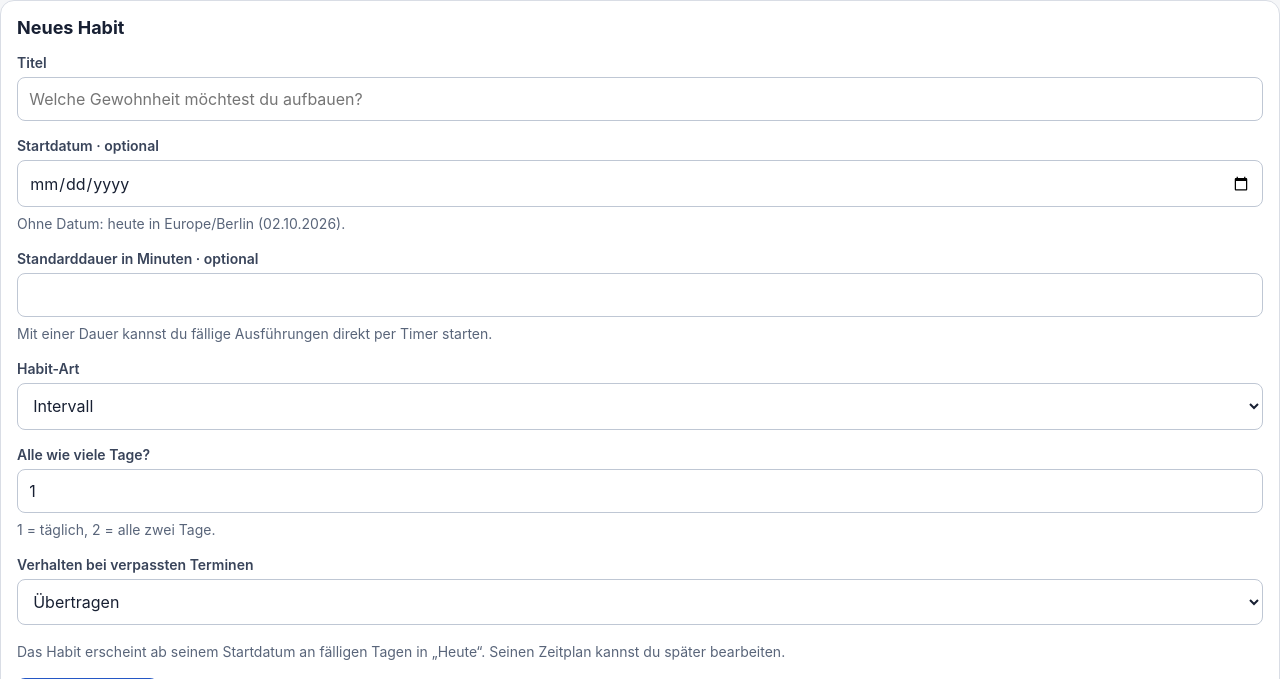
it: CreateHabitForm › rejects invalid weekly target 0
Type "Joggen" into the field named "title". click: (640, 99)
box: [17,77,1263,121]
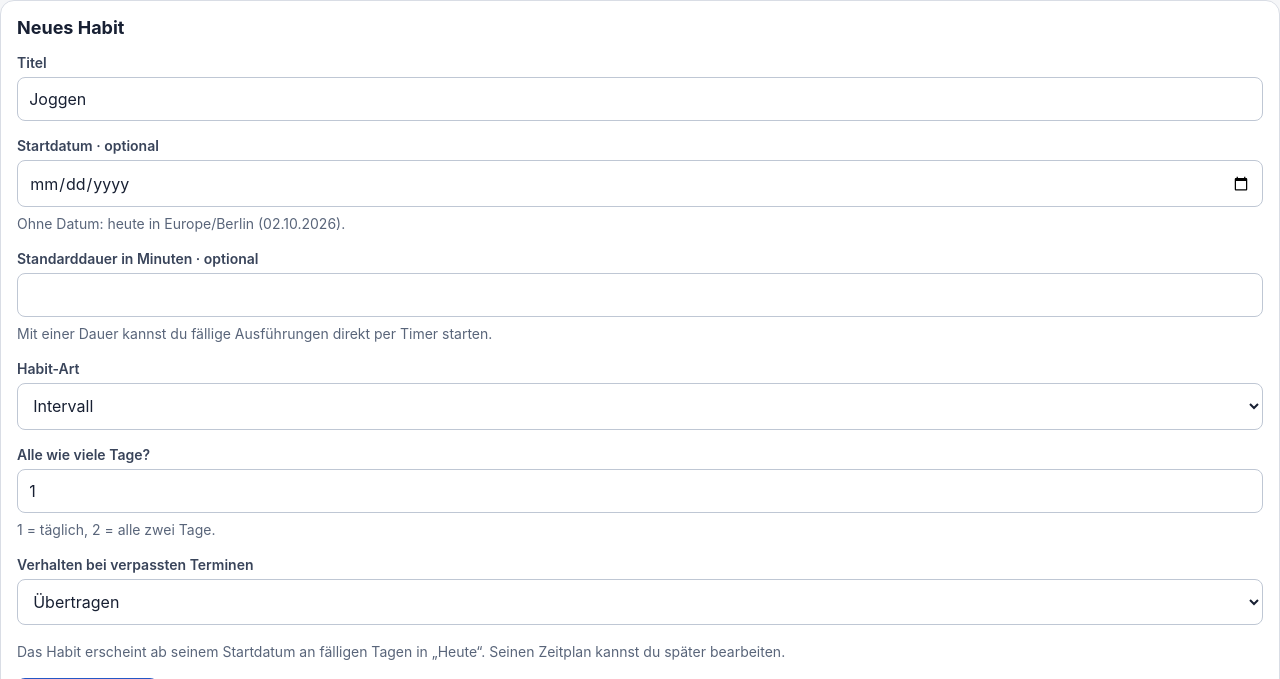
Select "Häufigkeit pro Woche" in the dropdown named "scheduleType". click: (640, 406)
box: [17,383,1263,430]
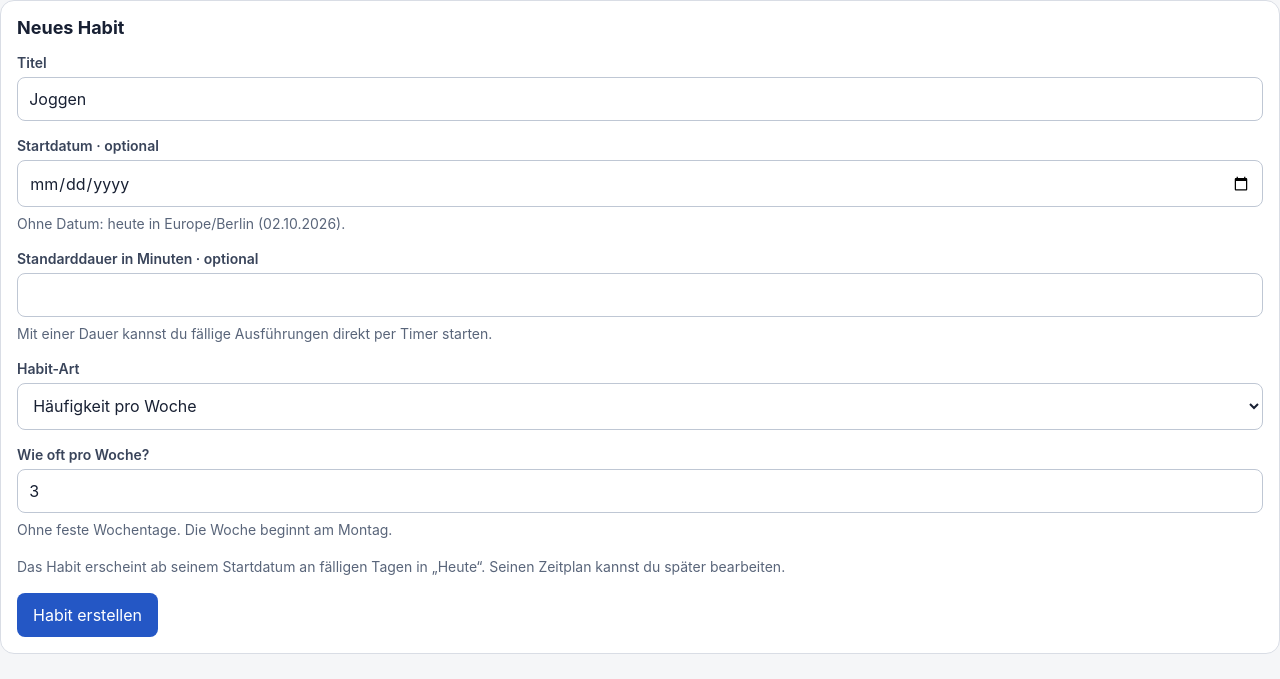
Replace the text in the number field named "weeklyTarget" with "0". click: (640, 491)
box: [17,468,1263,513]
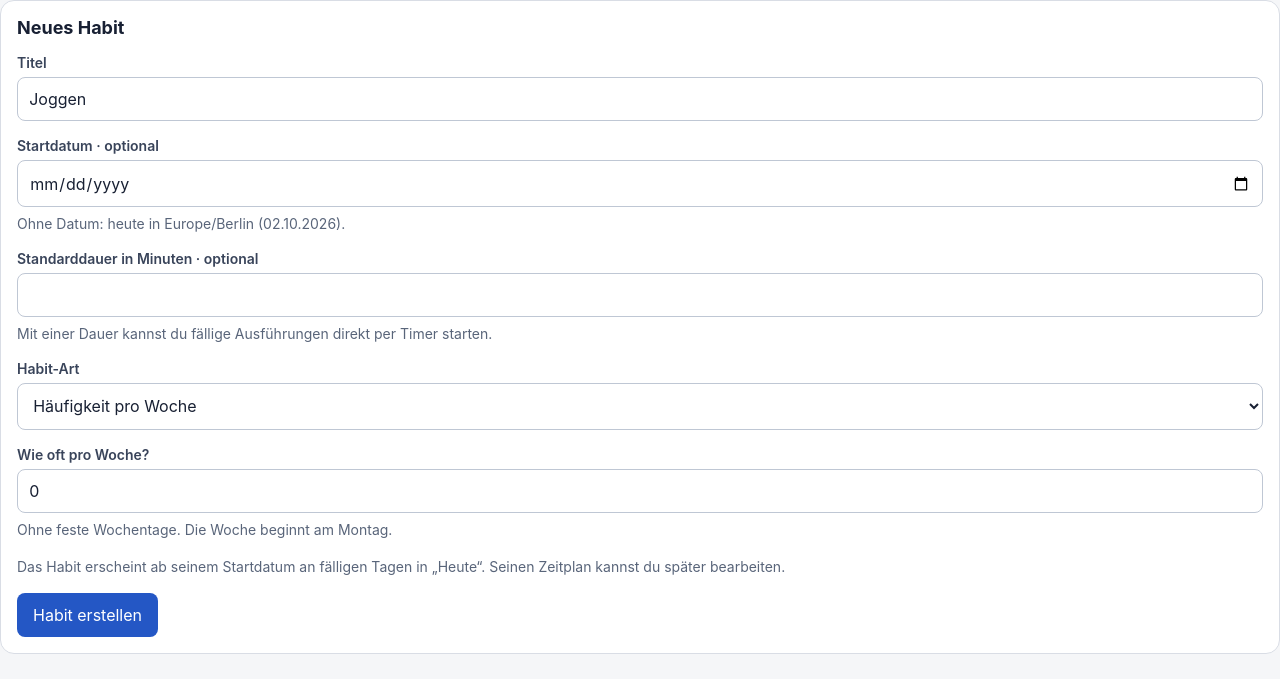
Submit the form
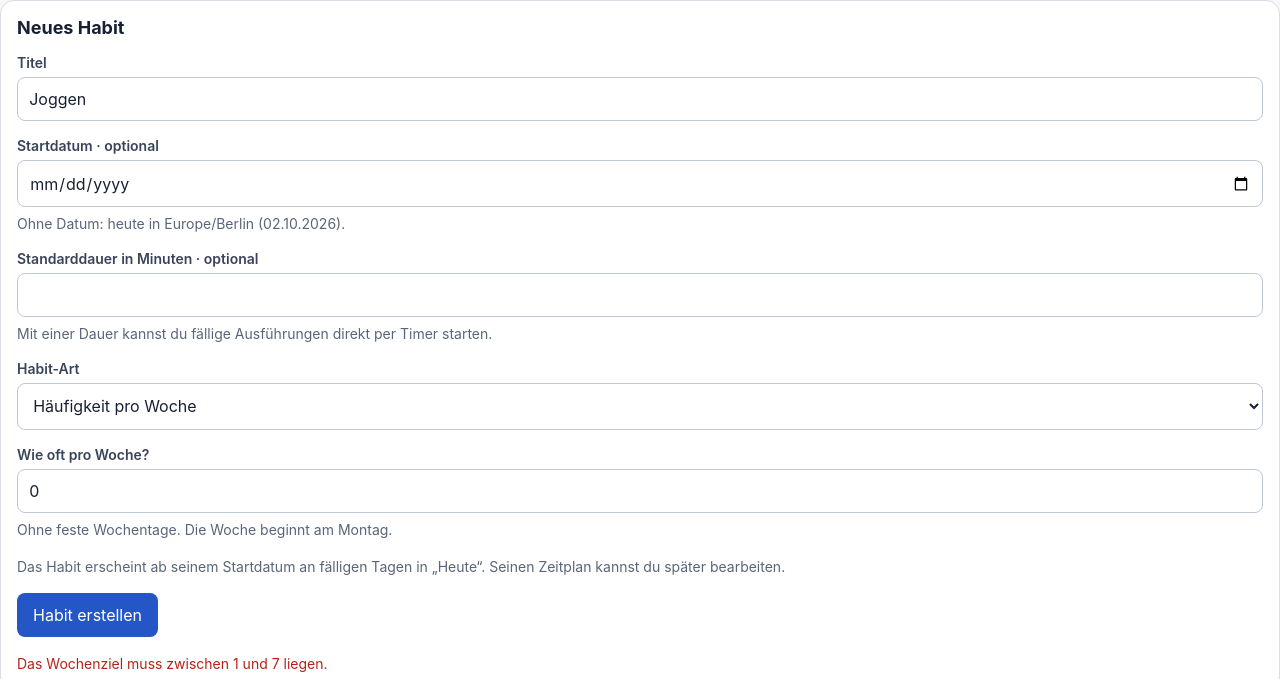
Now the message "Das Wochenziel muss zwischen 1 und 7 liegen." is shown, box [17,655,328,672]
